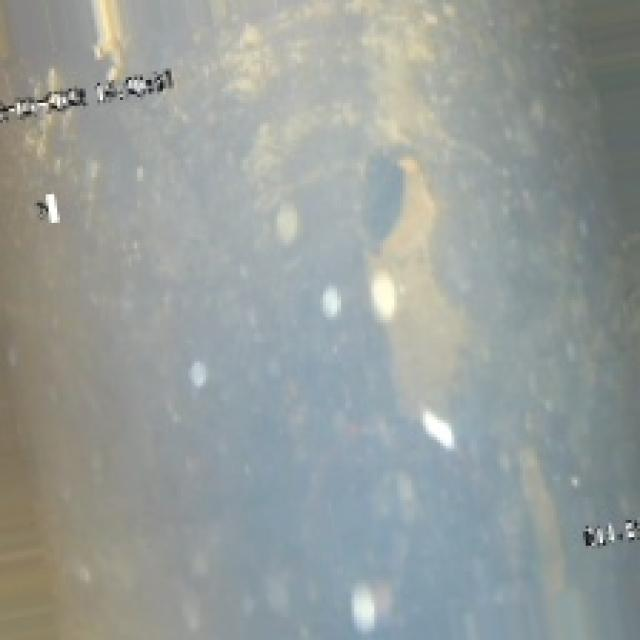pipe_surface_damage: (346, 128, 471, 328)
